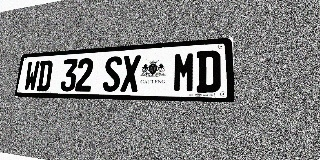2: (75, 58, 94, 92)
3: (60, 59, 78, 91)
D: (196, 50, 221, 93), (36, 60, 53, 91)
M: (173, 51, 196, 92)
S: (102, 56, 122, 92)
W: (23, 61, 40, 91)
X: (120, 55, 141, 92)
